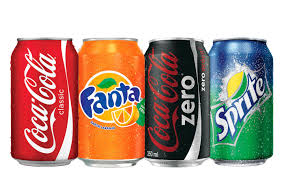can: (11, 36, 273, 168)
